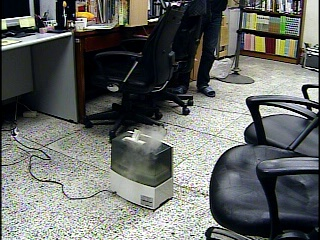smoke: (116, 125, 165, 171)
